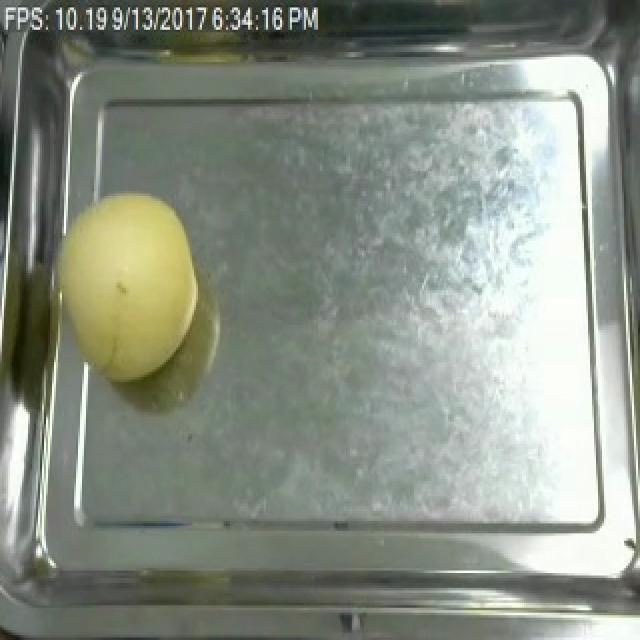Fruit: (40, 179, 208, 392)
